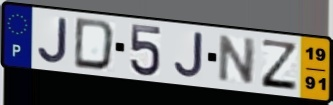5: (127, 21, 163, 77)
D: (72, 16, 118, 73)
J: (35, 16, 69, 65), (172, 32, 204, 81)
N: (216, 33, 259, 86)
Z: (259, 37, 300, 93)
